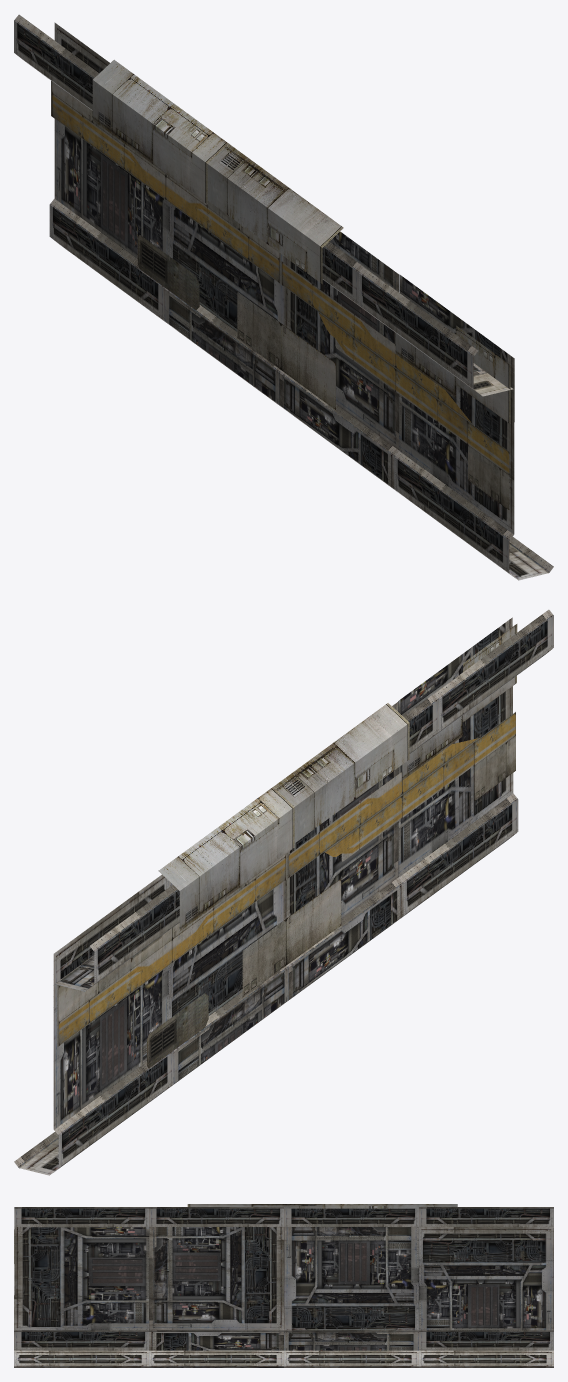
File: STR_BigWall_A.FBX
3 views of the same model, one above another, from view 1: azimuth 30°, elevation 25°; view 2: azimuth 150°, elevation 25°; view 3: azimuth 270°, elevation 25° (orthographic). The views are drawn at different scales.
Parts seen in each view (by area): view 1: STR_BigWall_A; view 2: STR_BigWall_A; view 3: STR_BigWall_A.
Boxes of the visible parts, bbox=[...] form: STR_BigWall_A: bbox=[14, 14, 553, 580]; STR_BigWall_A: bbox=[14, 609, 553, 1175]; STR_BigWall_A: bbox=[14, 1204, 553, 1367].
Size of the model in its own units: 210 by 603 by 2001.
